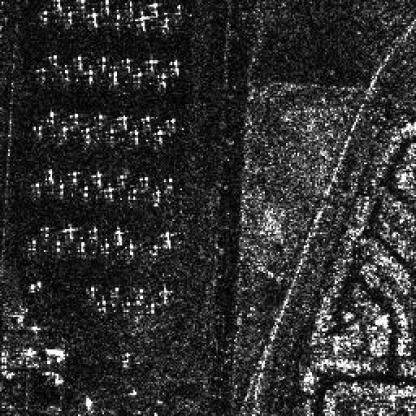airplane: (127, 128, 146, 148), (84, 8, 100, 28), (116, 112, 132, 132), (138, 112, 154, 132), (133, 171, 153, 187), (166, 57, 182, 76), (78, 127, 94, 146), (111, 10, 125, 31), (151, 73, 169, 89), (91, 112, 107, 130), (162, 112, 180, 128), (60, 222, 76, 240), (135, 11, 149, 31), (55, 67, 75, 81), (39, 224, 52, 245), (106, 127, 122, 144), (104, 70, 119, 88), (151, 130, 169, 145), (119, 54, 133, 73), (45, 52, 61, 68), (128, 70, 144, 86), (42, 109, 60, 123), (161, 174, 179, 188), (98, 237, 112, 255), (143, 57, 158, 73), (125, 186, 140, 202), (34, 66, 47, 84), (112, 228, 125, 246), (159, 16, 174, 31), (67, 109, 81, 125), (102, 184, 116, 200), (55, 180, 67, 198), (150, 187, 162, 205), (125, 240, 137, 258), (125, 0, 138, 16), (31, 122, 47, 135), (26, 236, 39, 252), (117, 168, 128, 186), (57, 124, 71, 138), (100, 0, 113, 15), (83, 68, 96, 83), (91, 169, 104, 184), (150, 0, 162, 16), (30, 180, 42, 196), (68, 166, 80, 182), (72, 55, 84, 70), (39, 8, 50, 24), (44, 166, 55, 182), (80, 182, 91, 198), (88, 226, 99, 242), (96, 57, 109, 70), (64, 10, 76, 24), (76, 239, 88, 253), (52, 239, 63, 253), (73, 0, 88, 10), (52, 0, 63, 13)
